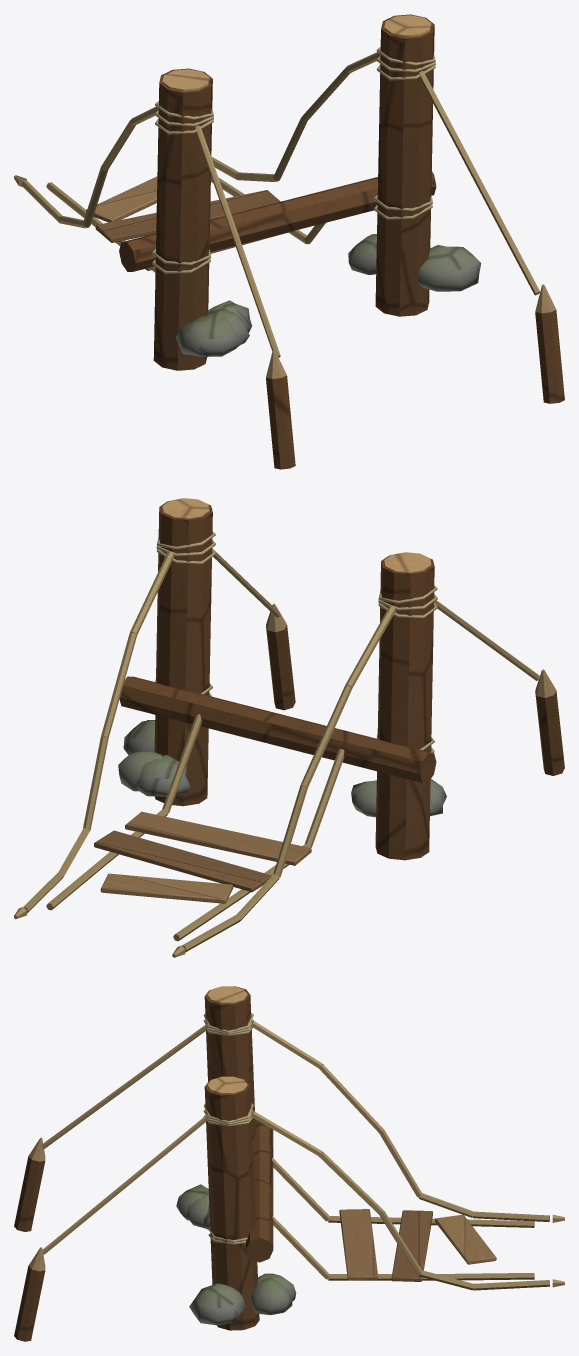
File: rope_bridge_post.glb
The picture shows the model from 3 angles, top to bottom: view 1: azimuth 30°, elevation 25°; view 2: azimuth 150°, elevation 25°; view 3: azimuth 270°, elevation 25°; orthographic projection. The views are drawn at different scales.
Visible parts, largest first — view 1: rope_bridge_post; view 2: rope_bridge_post; view 3: rope_bridge_post.
Part boxes in pixels (x1,y1,x2,y2): rope_bridge_post: (14,14,564,469); rope_bridge_post: (14,498,564,957); rope_bridge_post: (14,986,564,1341).
Size of the model in its own units: 2.08 by 1.77 by 3.61.
9 materials, 9 textured.
